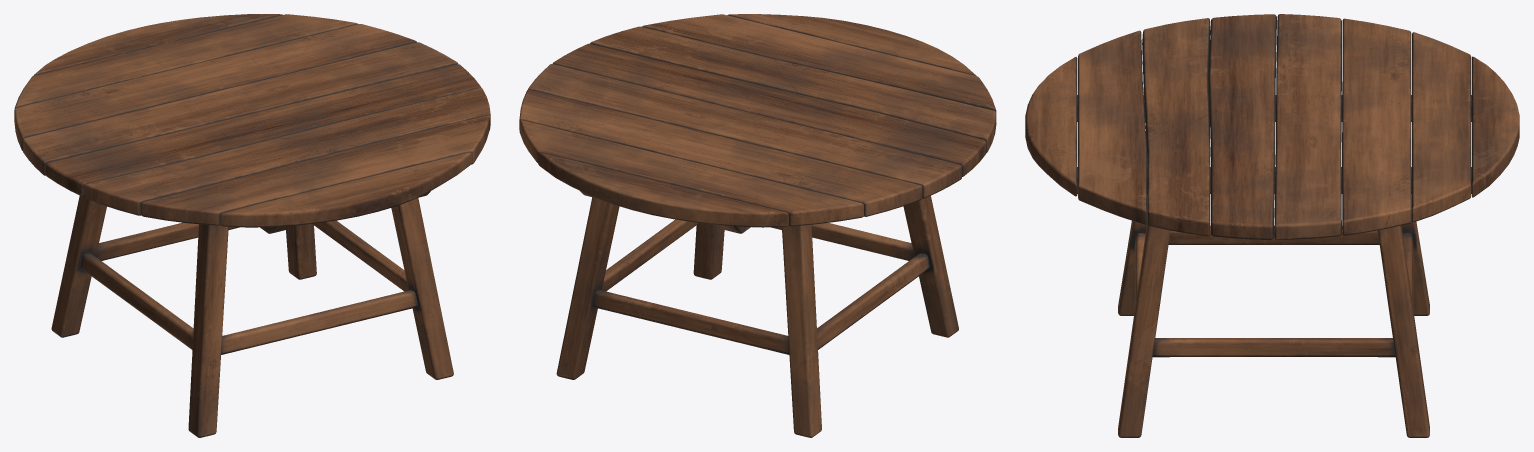
The model's file is newTable3.glb.
3 views of the same model, side by side, from view 1: azimuth 30°, elevation 25°; view 2: azimuth 150°, elevation 25°; view 3: azimuth 270°, elevation 25° (orthographic). The views are drawn at different scales.
Parts seen in each view (by area): view 1: Table_Wood_textures.SP_0.001; view 2: Table_Wood_textures.SP_0.001; view 3: Table_Wood_textures.SP_0.001.
Boxes of the visible parts, x1,y1,x2,y2 form: Table_Wood_textures.SP_0.001: [14, 14, 490, 437]; Table_Wood_textures.SP_0.001: [519, 14, 996, 437]; Table_Wood_textures.SP_0.001: [1025, 14, 1519, 437].
Bounding box in the file's own units: 2 × 1.11 × 1.97.
Materials: 1 (1 with a texture image).
